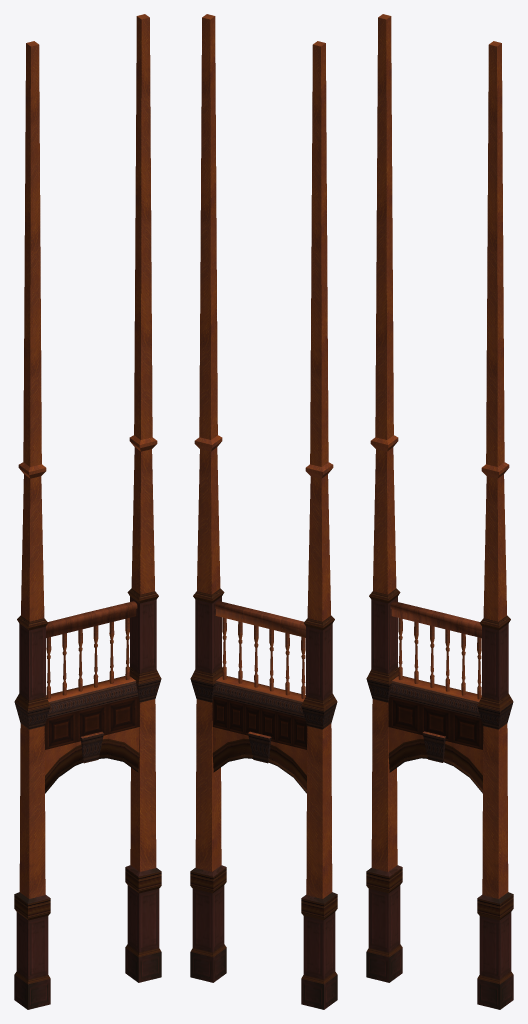
File: Balconey_2_PoleShort.fbx
The picture shows the model from 3 angles, left to right: view 1: azimuth 30°, elevation 25°; view 2: azimuth 150°, elevation 25°; view 3: azimuth 330°, elevation 25°; orthographic projection.
Visible parts, largest first — view 1: Balcony_2_PolesShorter_LOD0.001; view 2: Balcony_2_PolesShorter_LOD0.001; view 3: Balcony_2_PolesShorter_LOD0.001.
Boxes of the visible parts, left/top/right/bottom form: Balcony_2_PolesShorter_LOD0.001: left=14, top=14, right=161, bottom=1009; Balcony_2_PolesShorter_LOD0.001: left=190, top=14, right=337, bottom=1009; Balcony_2_PolesShorter_LOD0.001: left=366, top=14, right=513, bottom=1009.
Size of what is drawn, in the model's own units: 215 by 1473 by 37.26.
